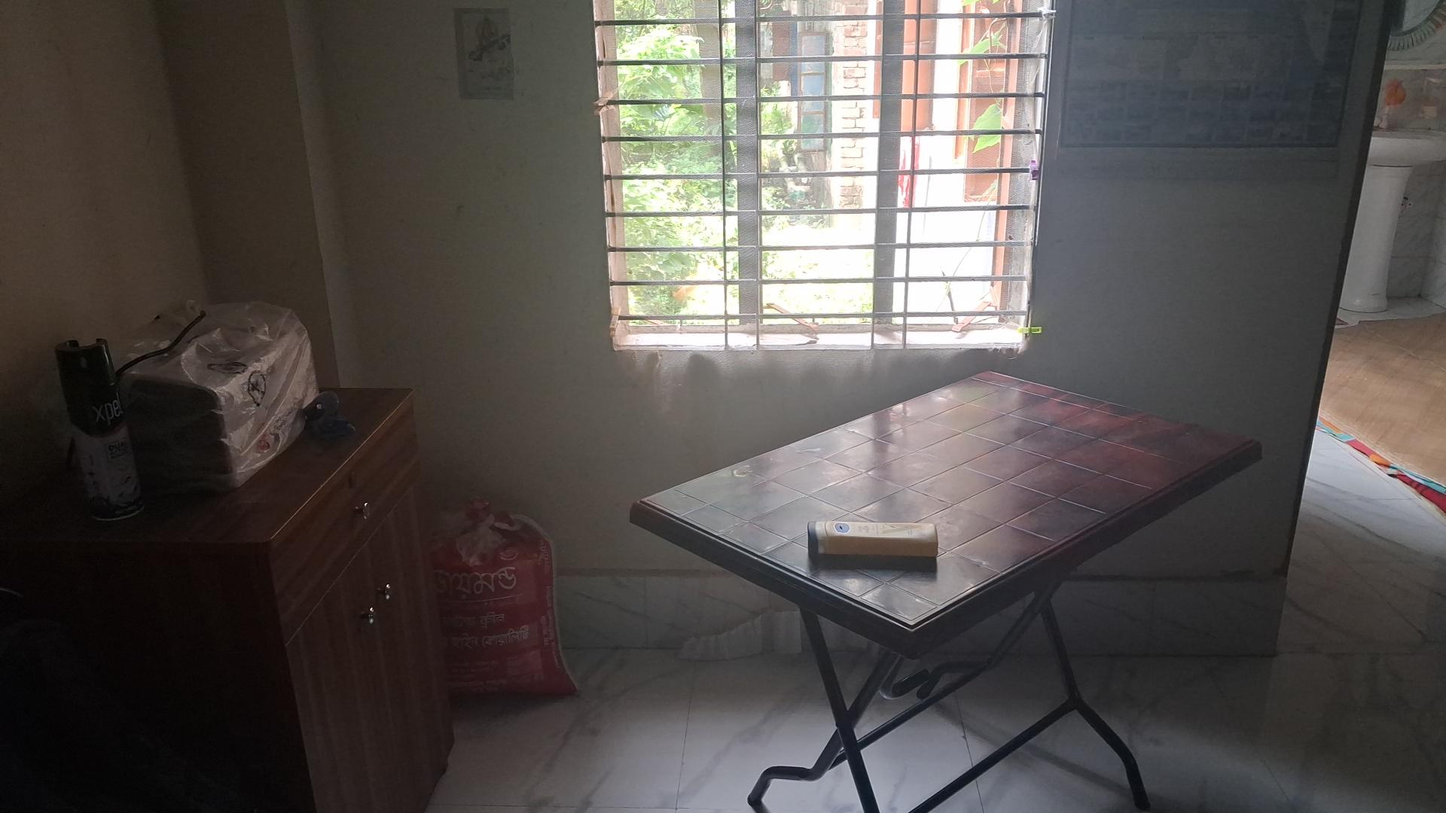Bag: (435, 504, 576, 709)
Bottle: (57, 342, 147, 524), (802, 517, 945, 571)
Photo: (455, 15, 517, 106)
Table: (627, 362, 1269, 813)
Window: (592, 0, 1042, 364)
